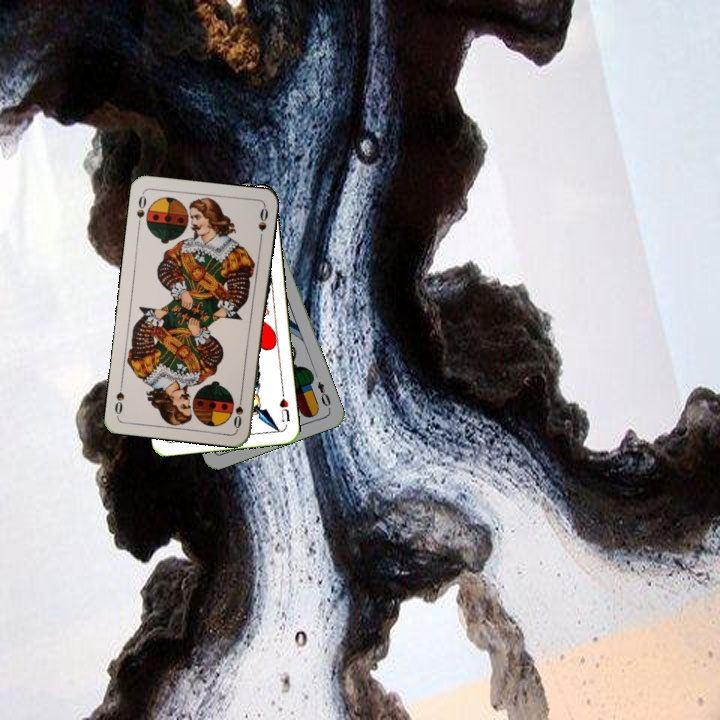EO: (313, 377, 333, 409)
HU: (276, 387, 293, 425)
SO: (229, 390, 246, 431), (133, 190, 149, 230)
